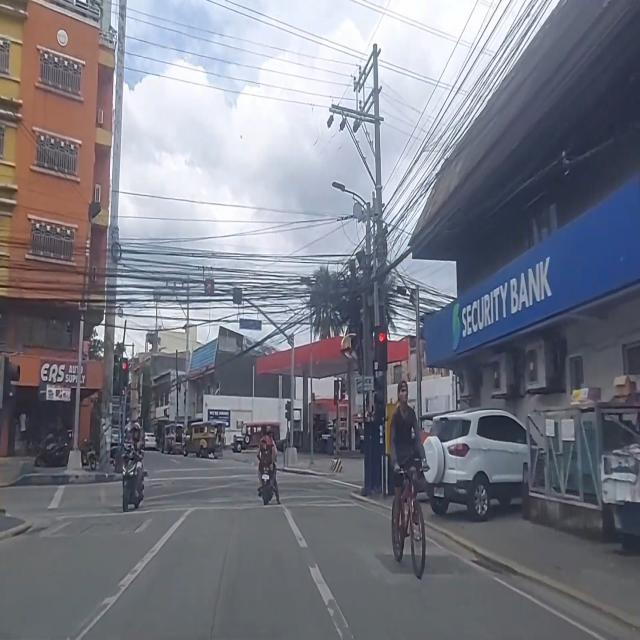bike: (390, 381, 426, 578)
car: (423, 408, 527, 520), (144, 432, 157, 449)
jeepney: (232, 421, 282, 452), (183, 422, 224, 457), (164, 424, 184, 454)
motorcycle: (122, 422, 145, 512), (258, 430, 280, 504), (34, 432, 72, 466), (90, 446, 120, 471), (81, 438, 100, 466)
